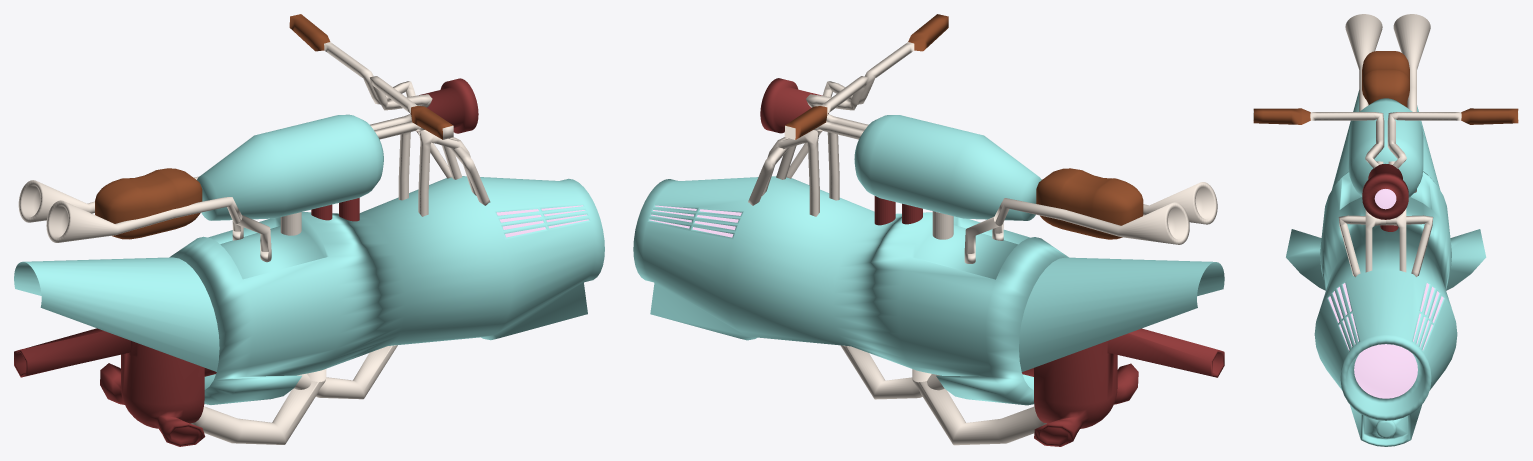
Rendered from pf-upload-1791824084382-motor_.glb.
The picture shows the model from 3 angles, left to right: view 1: azimuth 30°, elevation 25°; view 2: azimuth 150°, elevation 25°; view 3: azimuth 270°, elevation 25°; orthographic projection. The views are drawn at different scales.
Visible parts, largest first — view 1: iLAW, Cylinder.011, Cylinder.001, Sphere, Cylinder.004, Cube, Cylinder.003, Cylinder.009, Cylinder.010, Cylinder.005, Cylinder.002; view 2: iLAW, Cylinder.011, Cylinder.001, Sphere, Cylinder.004, Cube, Cylinder.002, Cylinder.009, Cylinder.010, Cylinder.005, Cylinder.003; view 3: iLAW, Cylinder.004, Cylinder.001, Cube, Cylinder.005, Cylinder.002, Cylinder.003, Cylinder.011.
Boxes of the visible parts, bbox=[...] form: iLAW: bbox=[170, 176, 604, 404]; Cylinder.011: bbox=[14, 257, 219, 371]; Cylinder.001: bbox=[197, 114, 383, 220]; Sphere: bbox=[14, 328, 216, 446]; Cylinder.004: bbox=[289, 14, 490, 216]; Cube: bbox=[95, 168, 202, 239]; Cylinder.003: bbox=[46, 197, 271, 262]; Cylinder.009: bbox=[190, 369, 326, 444]; Cylinder.010: bbox=[294, 345, 397, 399]; Cylinder.005: bbox=[410, 78, 478, 133]; Cylinder.002: bbox=[18, 176, 243, 240]; iLAW: bbox=[633, 176, 1068, 405]; Cylinder.011: bbox=[1019, 257, 1224, 371]; Cylinder.001: bbox=[854, 115, 1041, 220]; Sphere: bbox=[1022, 328, 1224, 446]; Cylinder.004: bbox=[748, 14, 948, 216]; Cube: bbox=[1036, 168, 1143, 239]; Cylinder.002: bbox=[964, 198, 1189, 263]; Cylinder.009: bbox=[912, 369, 1046, 445]; Cylinder.010: bbox=[840, 345, 944, 399]; Cylinder.005: bbox=[760, 78, 828, 133]; Cylinder.003: bbox=[992, 179, 1217, 240]; iLAW: bbox=[1286, 171, 1486, 446]; Cylinder.004: bbox=[1253, 108, 1518, 277]; Cylinder.001: bbox=[1348, 98, 1423, 197]; Cube: bbox=[1362, 51, 1409, 107]; Cylinder.005: bbox=[1362, 164, 1408, 219]; Cylinder.002: bbox=[1393, 14, 1430, 192]; Cylinder.003: bbox=[1345, 14, 1382, 111]; Cylinder.011: bbox=[1332, 90, 1439, 189].
Bounding box in the file's own units: 9.55 × 5.74 × 4.54.
